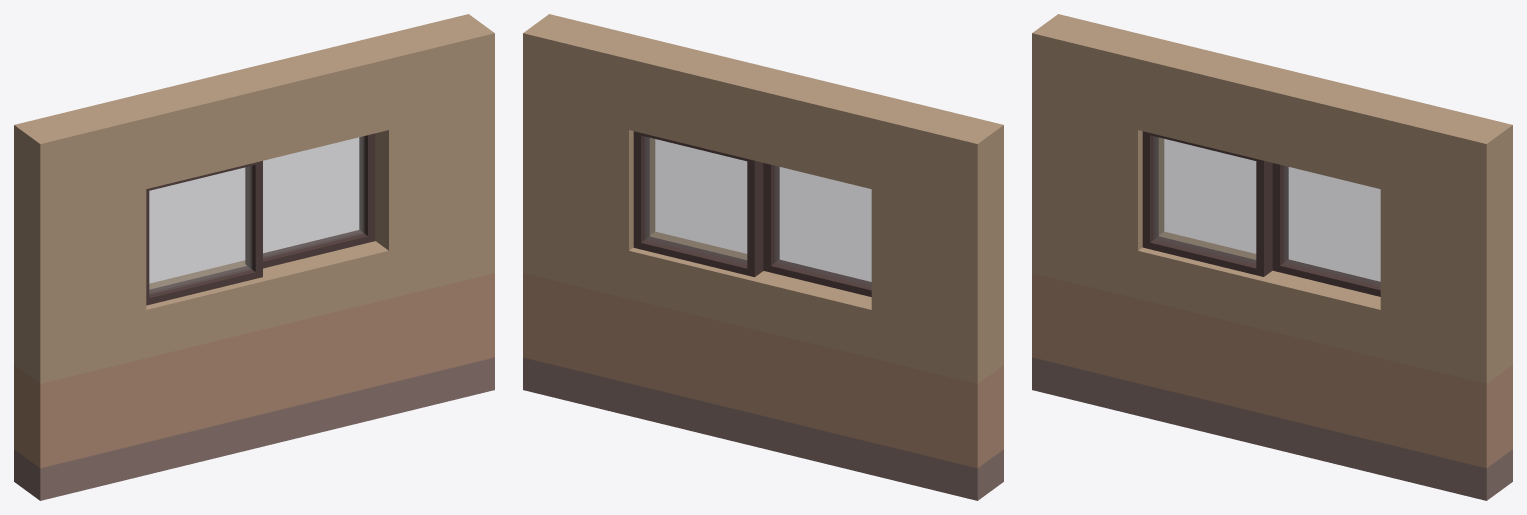
Rendered from Wall_window.fbx.
3 renders of one model, left to right at view 1: azimuth 30°, elevation 25°; view 2: azimuth 150°, elevation 25°; view 3: azimuth 330°, elevation 25°, orthographic.
Parts seen in each view (by area): view 1: Wall, window2, window1; view 2: Wall, window1, window2; view 3: Wall, window2, window1.
Part boxes in pixels (x1,y1,x2,y2): Wall: [14, 14, 494, 500]; window2: [146, 161, 262, 305]; window1: [245, 133, 375, 268]; Wall: [523, 14, 1003, 500]; window1: [633, 131, 763, 277]; window2: [763, 163, 871, 296]; Wall: [1032, 14, 1512, 500]; window2: [1142, 131, 1272, 276]; window1: [1272, 163, 1380, 296].
Size of the model in its own units: 4 by 3 by 0.4.
